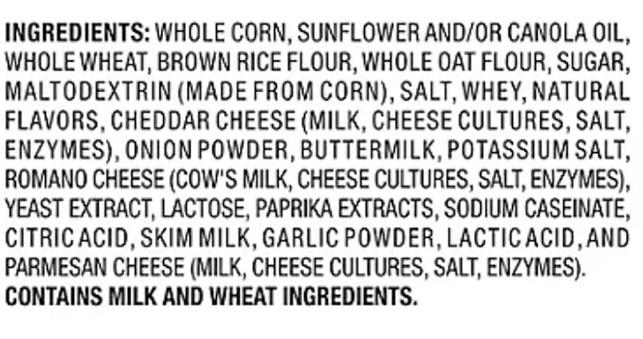ingredients: (3, 16, 636, 313)
